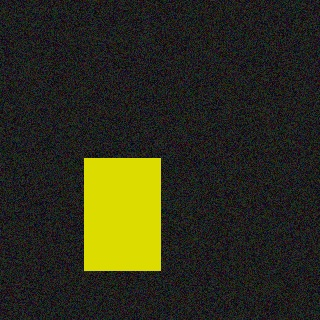yellow_barrel: (84, 158, 161, 270)
